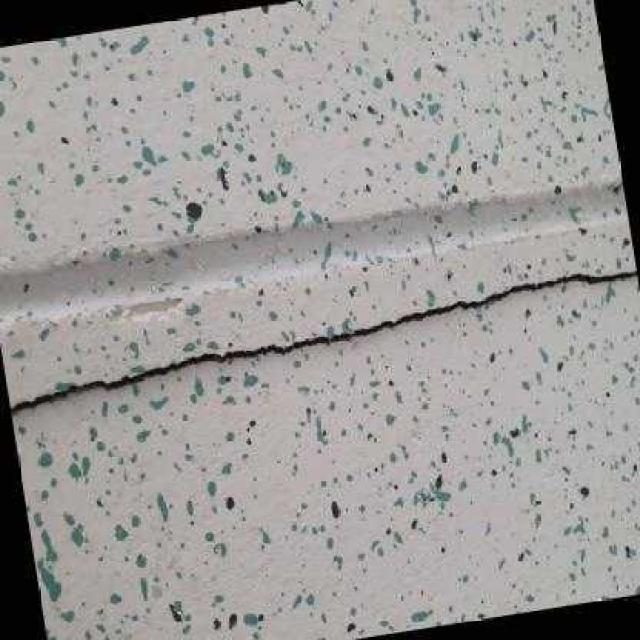D00: (9, 269, 637, 418)
